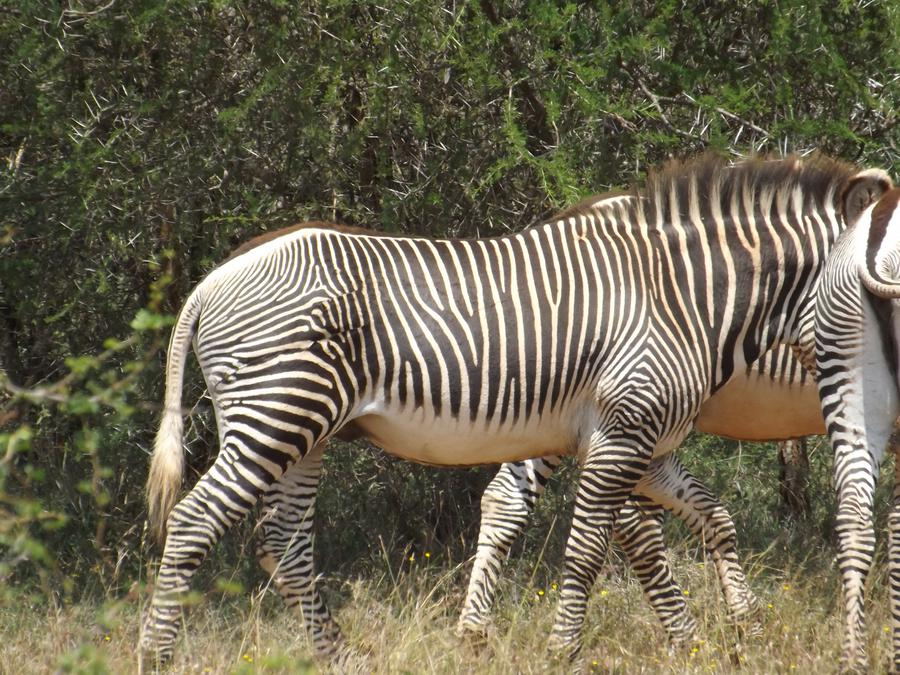zebra_grevys: (178, 213, 673, 450)
